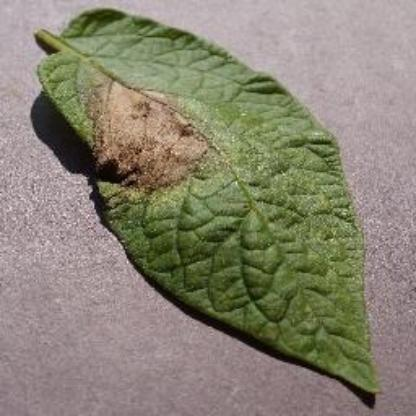Late-Blight: (34, 7, 390, 397)
